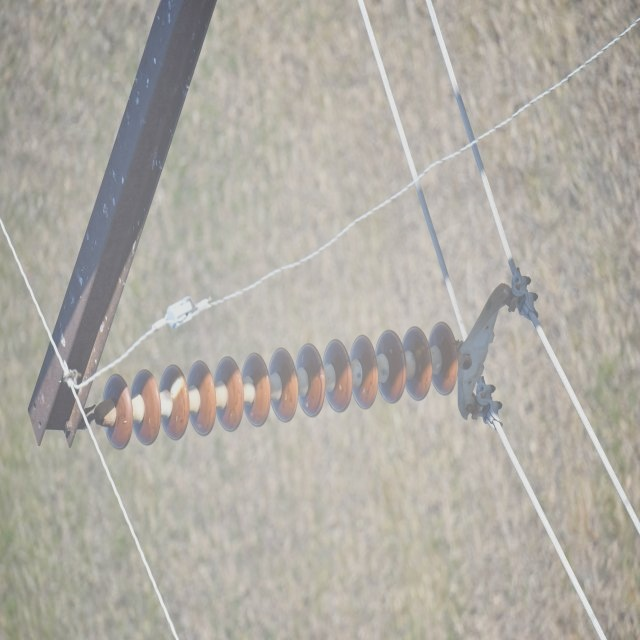insulator: (104, 321, 458, 452)
